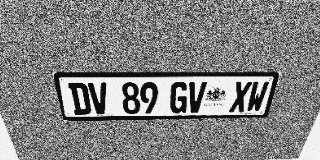8: (121, 82, 140, 114)
9: (140, 82, 158, 114)
D: (68, 83, 92, 115)
G: (169, 82, 189, 113)
V: (87, 82, 110, 115), (186, 82, 207, 113)
W: (245, 81, 269, 112)
X: (229, 81, 252, 112)
